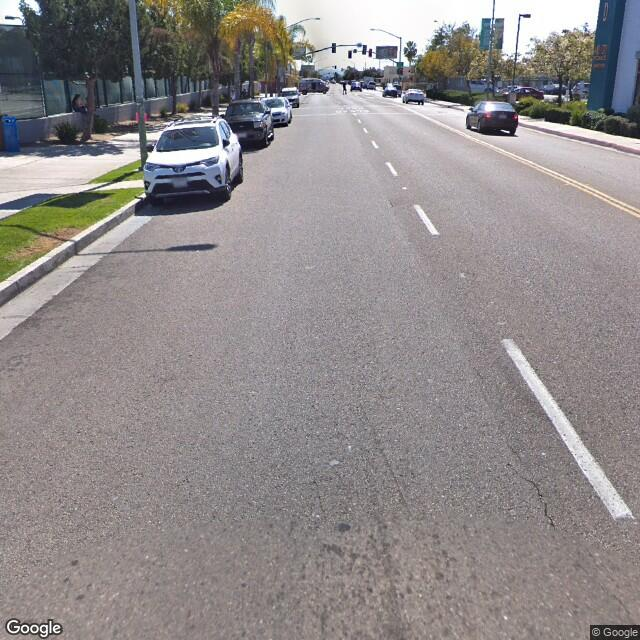road line: (496, 330, 633, 531), (387, 152, 446, 237)
